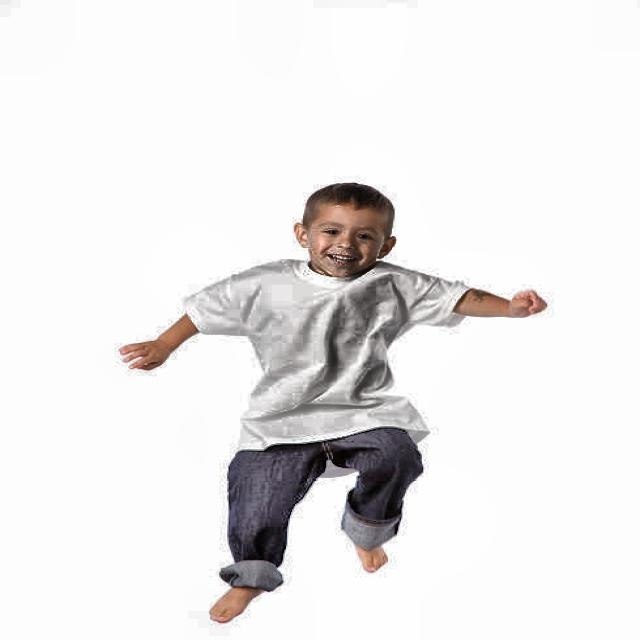Human: (138, 128, 551, 610)
